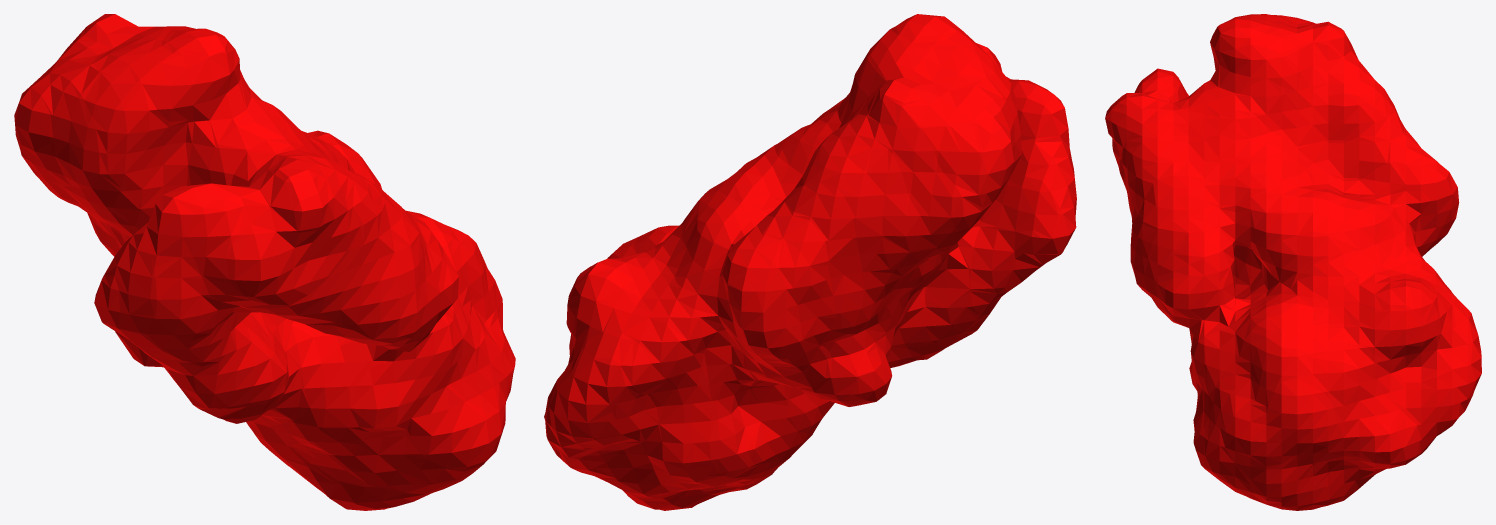
The model's file is pntB_coarse.dae.
3 views of the same model, side by side, from view 1: azimuth 30°, elevation 25°; view 2: azimuth 150°, elevation 25°; view 3: azimuth 270°, elevation 25° (orthographic). The views are drawn at different scales.
Visible parts, largest first — view 1: pntB; view 2: pntB; view 3: pntB.
Boxes of the visible parts, x1,y1,x2,y2 form: pntB: (14, 14, 515, 510); pntB: (544, 14, 1076, 510); pntB: (1105, 14, 1481, 510).
Bounding box in the file's own units: 70.21 × 77.83 × 65.82.
